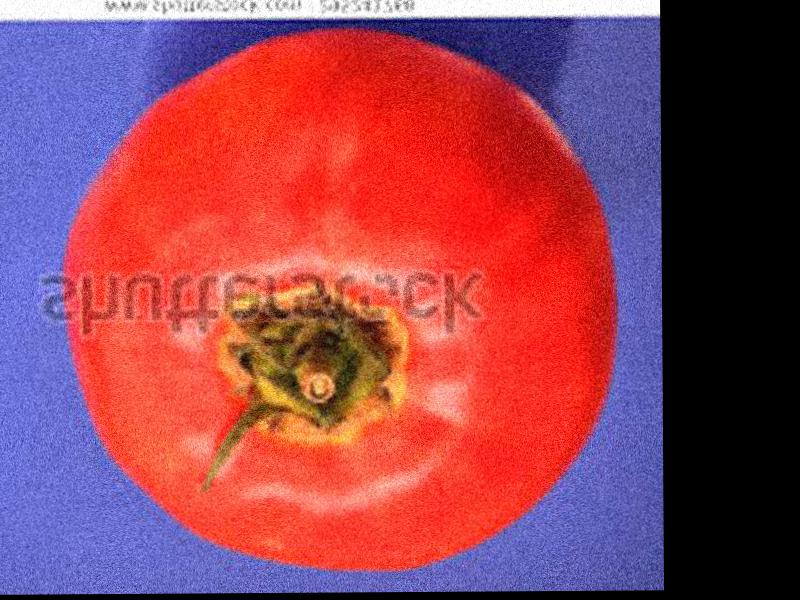Tomato: (62, 38, 620, 572)
